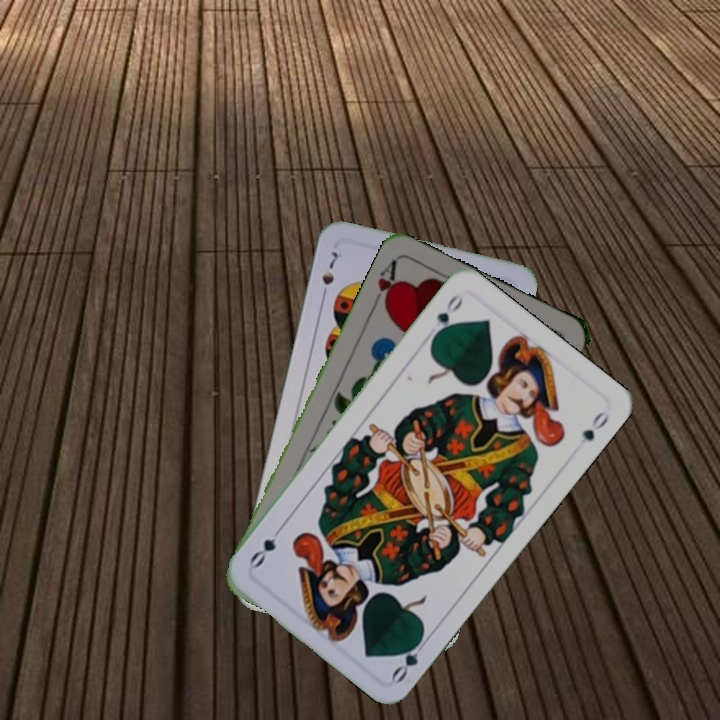GO: (387, 630, 432, 685), (428, 290, 466, 343)
HA: (368, 256, 402, 312)
S7: (317, 244, 342, 302)
